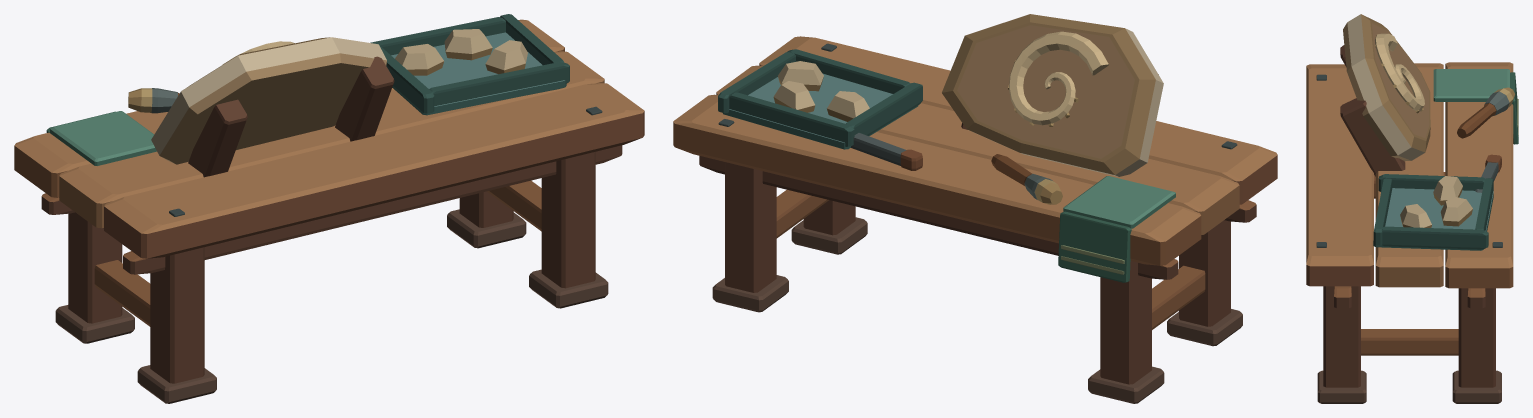
The model's file is canyon_fossil_workbench.glb.
3 views of the same model, side by side, from view 1: azimuth 30°, elevation 25°; view 2: azimuth 150°, elevation 25°; view 3: azimuth 270°, elevation 25° (orthographic). The views are drawn at different scales.
Parts seen in each view (by area): view 1: canyon_fossil_workbench; view 2: canyon_fossil_workbench; view 3: canyon_fossil_workbench.
Part boxes in pixels (x1,y1,x2,y2): canyon_fossil_workbench: (14, 14, 644, 403); canyon_fossil_workbench: (673, 14, 1277, 403); canyon_fossil_workbench: (1306, 14, 1518, 403).
Bounding box in the file's own units: 7.14 × 4.08 × 3.12.
